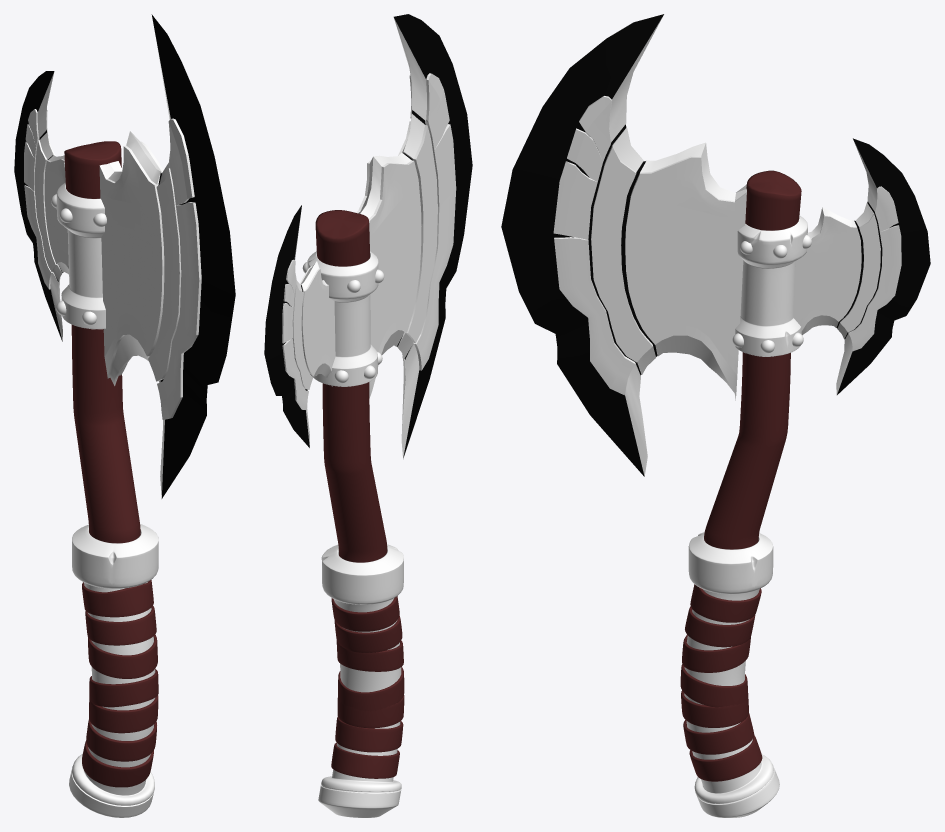
Rendered from axe_high.fbx.
The picture shows the model from 3 angles, left to right: view 1: azimuth 30°, elevation 25°; view 2: azimuth 150°, elevation 25°; view 3: azimuth 270°, elevation 25°; orthographic projection. The views are drawn at different scales.
Parts seen in each view (by area): view 1: big_blade_high, wood_handle_high, leatherWrap_high, metalBase_high, small_blade_high, topMetal_high; view 2: big_blade_high, wood_handle_high, leatherWrap_high, small_blade_high, metalBase_high, topMetal_high; view 3: big_blade_high, small_blade_high, wood_handle_high, leatherWrap_high, metalBase_high, topMetal_high.
Boxes of the visible parts, x1,y1,x2,y2 form: big_blade_high: [99, 14, 235, 498]; wood_handle_high: [64, 141, 140, 543]; leatherWrap_high: [82, 580, 158, 787]; metalBase_high: [69, 524, 158, 817]; small_blade_high: [14, 71, 68, 341]; topMetal_high: [51, 182, 106, 329]; big_blade_high: [356, 14, 472, 458]; wood_handle_high: [315, 210, 387, 562]; leatherWrap_high: [331, 596, 404, 778]; small_blade_high: [264, 205, 335, 447]; metalBase_high: [318, 544, 403, 817]; topMetal_high: [302, 251, 384, 386]; big_blade_high: [501, 14, 746, 476]; small_blade_high: [793, 138, 930, 395]; wood_handle_high: [704, 170, 801, 549]; leatherWrap_high: [680, 584, 762, 781]; metalBase_high: [684, 532, 779, 817]; topMetal_high: [732, 215, 811, 356].
Bounding box in the file's own units: 0.5636 × 5.85 × 2.85.
